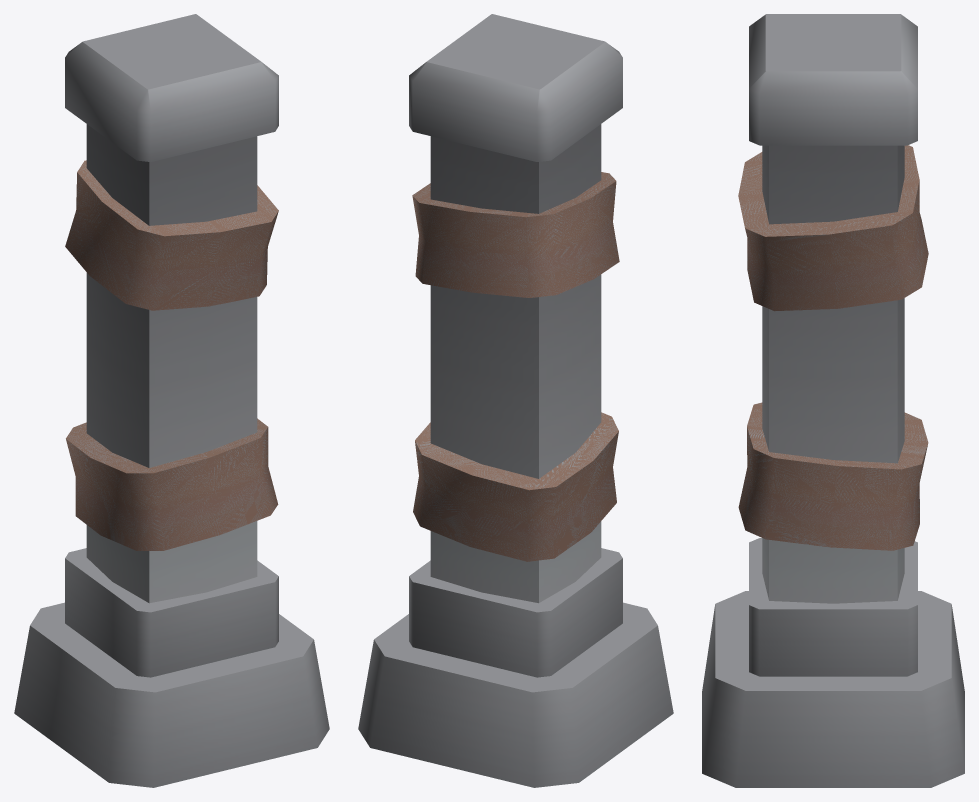
Rendered from column-large.glb.
The picture shows the model from 3 angles, left to right: view 1: azimuth 30°, elevation 25°; view 2: azimuth 150°, elevation 25°; view 3: azimuth 270°, elevation 25°; orthographic projection. The views are drawn at different scales.
Visible parts, largest first — view 1: column-large; view 2: column-large; view 3: column-large.
Boxes of the visible parts, x1,y1,x2,y2 form: column-large: [14, 14, 329, 787]; column-large: [358, 14, 673, 787]; column-large: [702, 14, 964, 787].
Bounding box in the file's own units: 0.9359 × 2.71 × 0.9359.
Materials: 1 (1 with a texture image).
